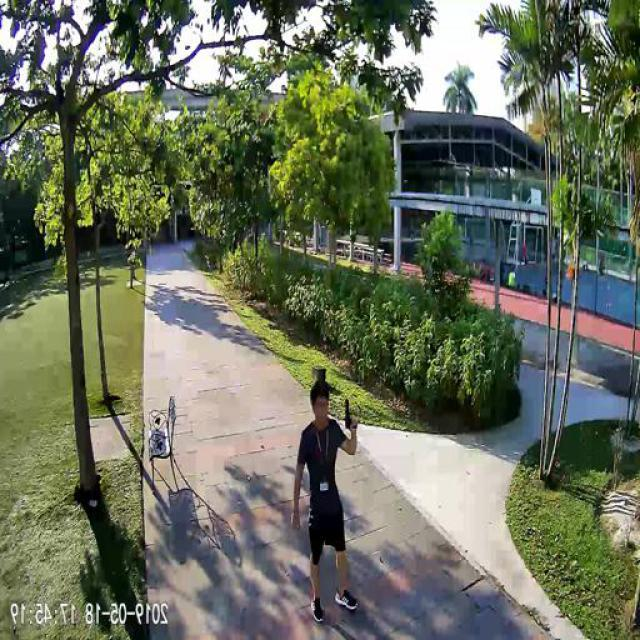Gun: (346, 395, 360, 429)
